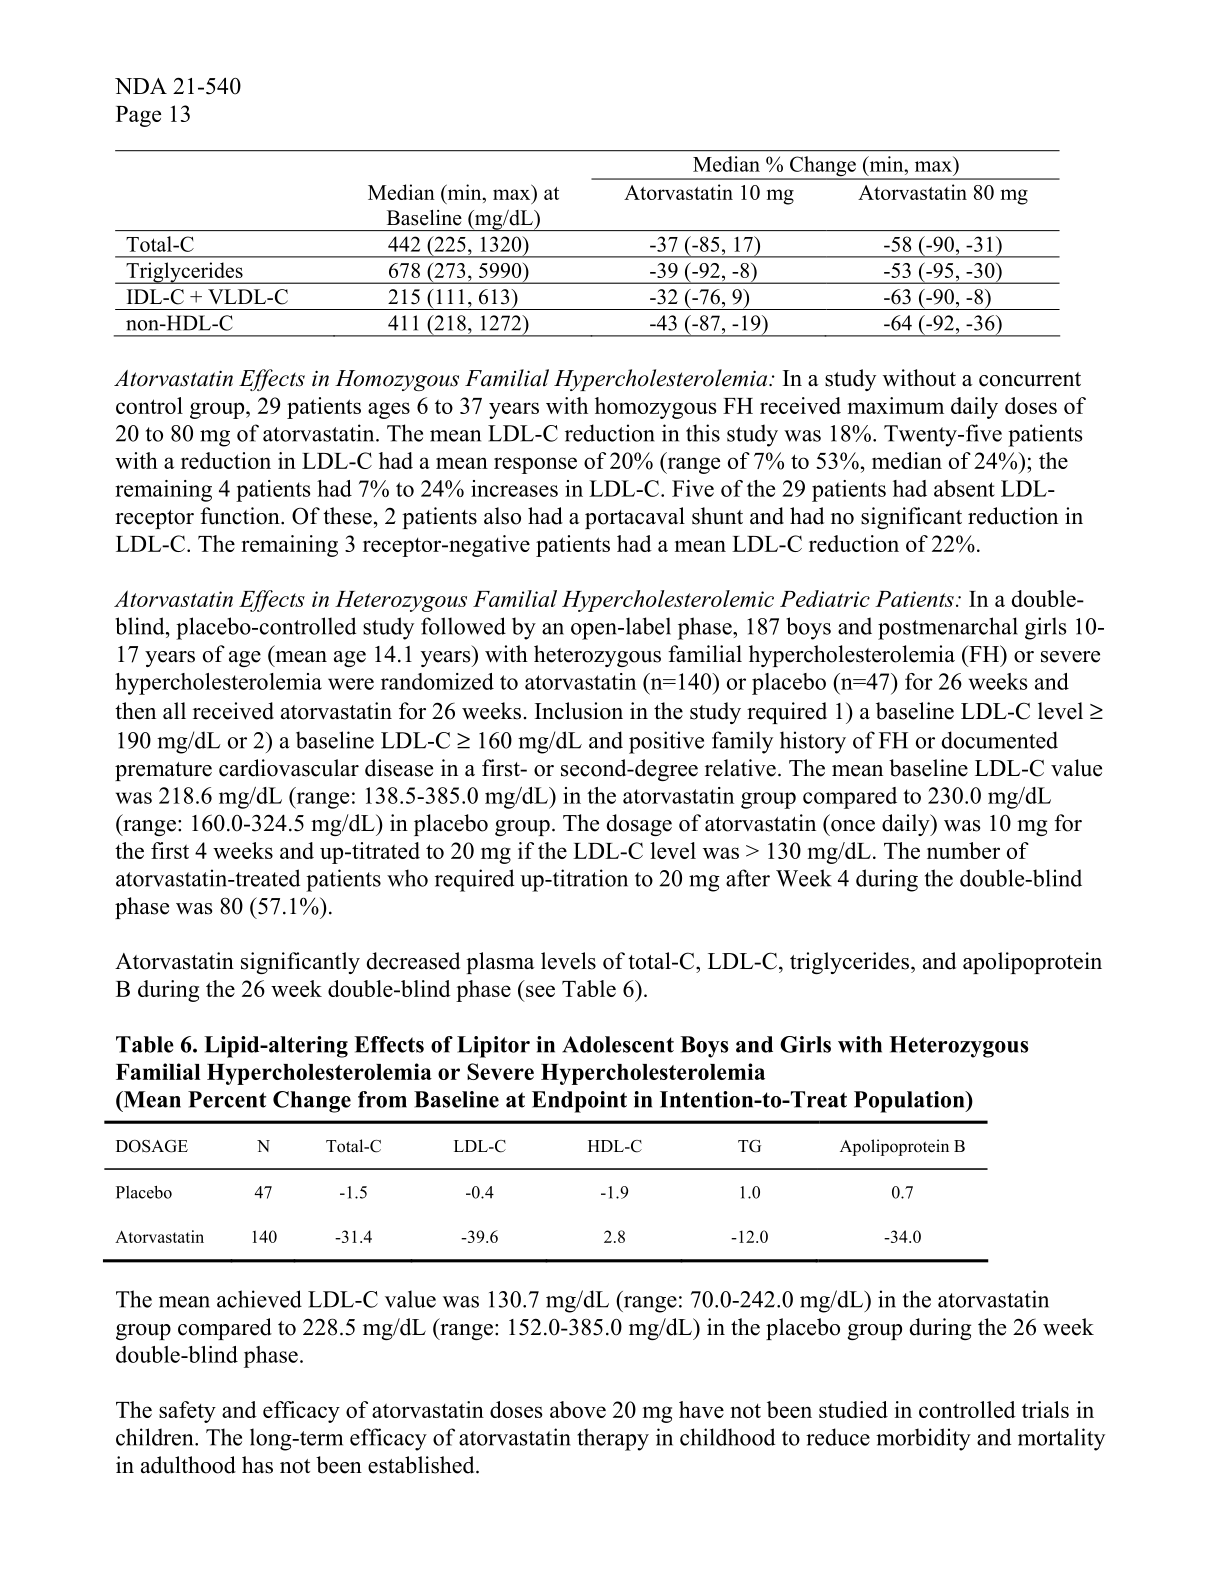partial_lined: (102, 1120, 990, 1264)
partial_lined_merged_cells: (112, 149, 1061, 338)
